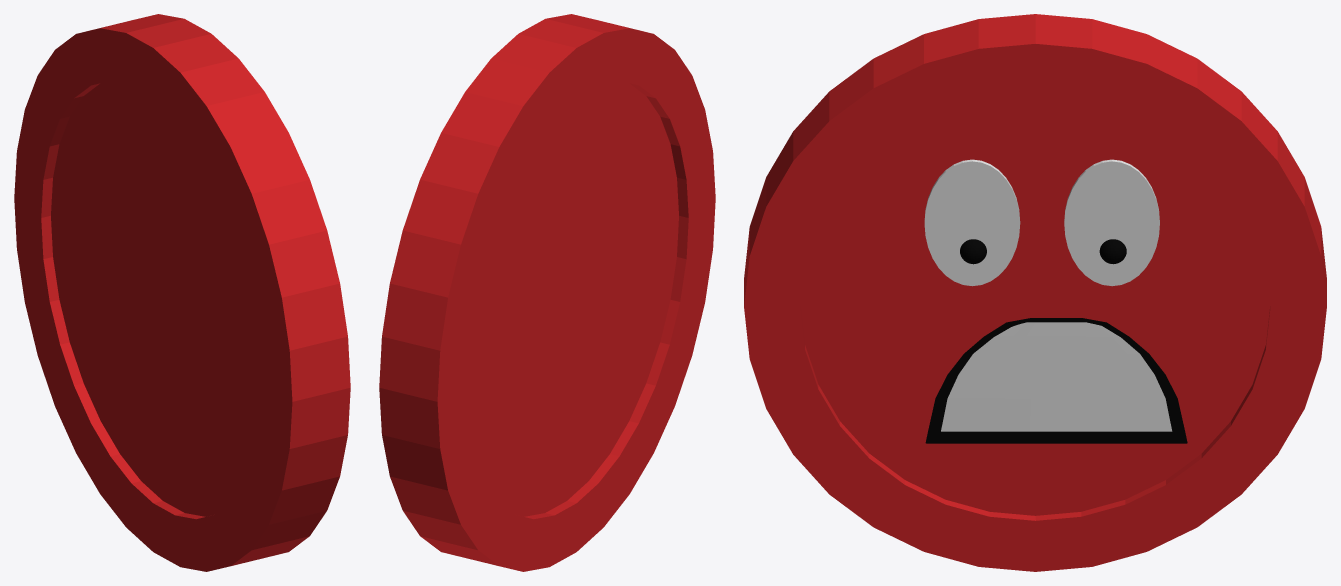
Rendered from Modelo_moeda_vermelha.fbx.
3 renders of one model, left to right at view 1: azimuth 30°, elevation 25°; view 2: azimuth 150°, elevation 25°; view 3: azimuth 270°, elevation 25°, orthographic. The views are drawn at different scales.
Parts seen in each view (by area): view 1: Moeda_Vermelha; view 2: Moeda_Vermelha; view 3: Moeda_Vermelha.
Part boxes in pixels (bbox=[...]): Moeda_Vermelha: bbox=[14, 14, 350, 571]; Moeda_Vermelha: bbox=[379, 14, 715, 571]; Moeda_Vermelha: bbox=[744, 14, 1326, 571].
Size of the model in its own units: 25.61 by 200 by 200.
